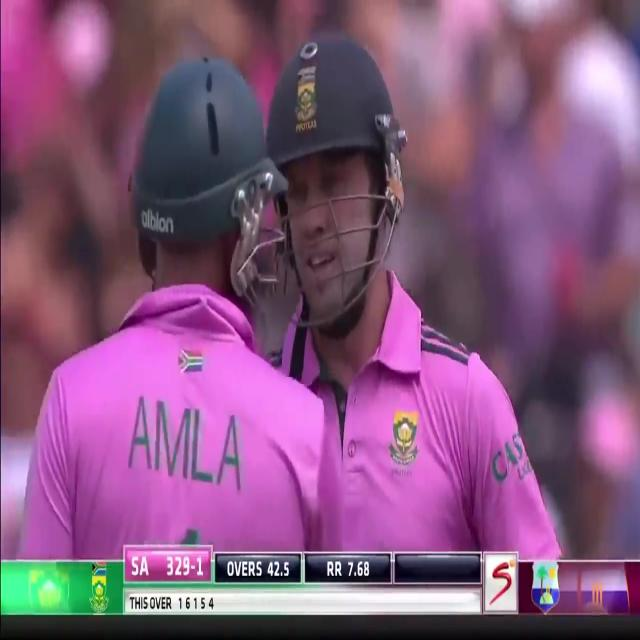Ball: (26, 44, 374, 559), (259, 39, 564, 564)
